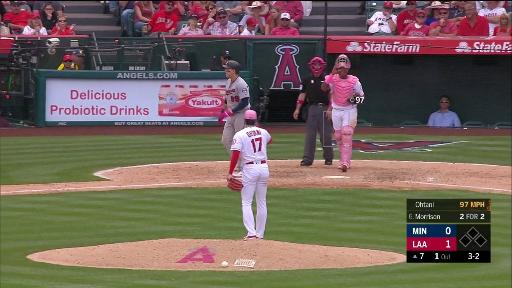pitcher: (224, 110, 274, 240)
